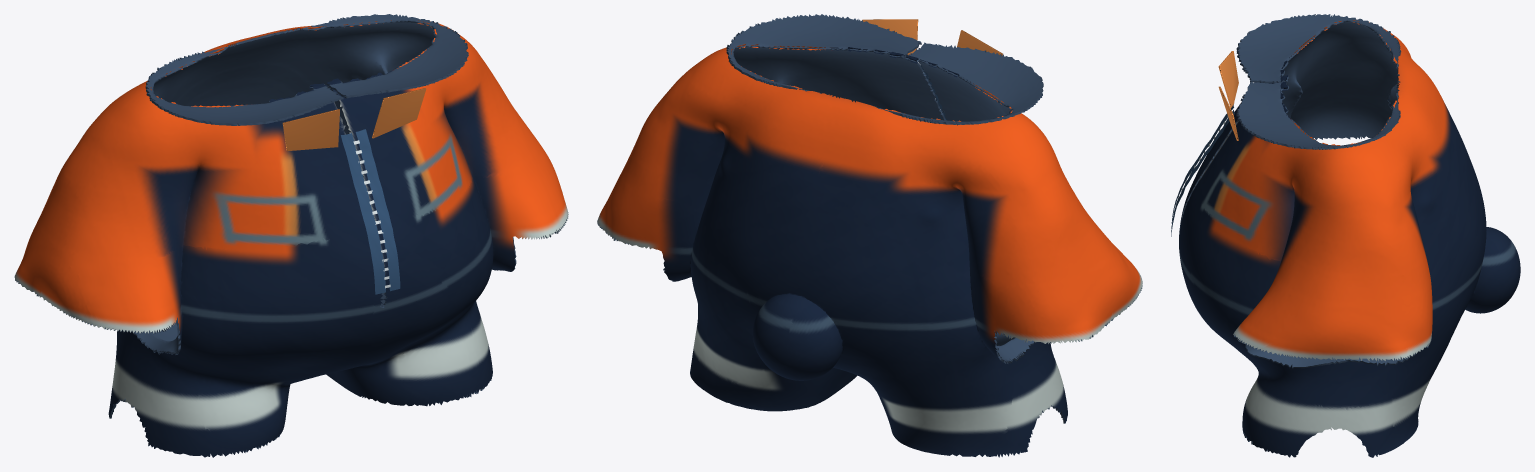
File: posukho_outfit_only.glb
3 renders of one model, left to right at view 1: azimuth 30°, elevation 25°; view 2: azimuth 150°, elevation 25°; view 3: azimuth 270°, elevation 25°, orthographic. The views are drawn at different scales.
Visible parts, largest first — view 1: CLOTH_jacket_front_left, CLOTH_pants, CLOTH_jacket_back, CLOTH_jacket_front_right, CLOTH_collar_left, CLOTH_zipper_left_tape, CLOTH_zipper_right_tape, CLOTH_collar_right; view 2: CLOTH_jacket_back, CLOTH_pants, CLOTH_jacket_front_right, CLOTH_jacket_front_left, CLOTH_collar_right; view 3: CLOTH_jacket_back, CLOTH_jacket_front_right, CLOTH_pants, CLOTH_jacket_front_left, CLOTH_collar_left, CLOTH_zipper_right_tape.
Part boxes in pixels (<box>): CLOTH_jacket_front_left: <box>64,83,383,333</box>; CLOTH_pants: <box>108,233,516,457</box>; CLOTH_jacket_back: <box>14,14,552,313</box>; CLOTH_jacket_front_right: <box>327,36,568,306</box>; CLOTH_collar_left: <box>282,109,339,150</box>; CLOTH_zipper_left_tape: <box>341,133,385,294</box>; CLOTH_zipper_right_tape: <box>355,129,400,291</box>; CLOTH_collar_right: <box>372,88,426,138</box>; CLOTH_jacket_back: <box>597,30,1131,343</box>; CLOTH_pants: <box>661,249,1067,457</box>; CLOTH_jacket_front_right: <box>737,14,946,120</box>; CLOTH_jacket_front_left: <box>905,42,1142,305</box>; CLOTH_collar_right: <box>862,19,918,55</box>; CLOTH_jacket_back: <box>1311,14,1514,361</box>; CLOTH_jacket_front_right: <box>1179,82,1314,358</box>; CLOTH_pants: <box>1179,244,1520,457</box>; CLOTH_jacket_front_left: <box>1179,14,1314,236</box>; CLOTH_collar_left: <box>1218,51,1238,108</box>; CLOTH_zipper_right_tape: <box>1171,110,1234,236</box>.
Size of the model in its own units: 0.5184 by 0.3309 by 0.3414.
6 materials, 2 textured.
